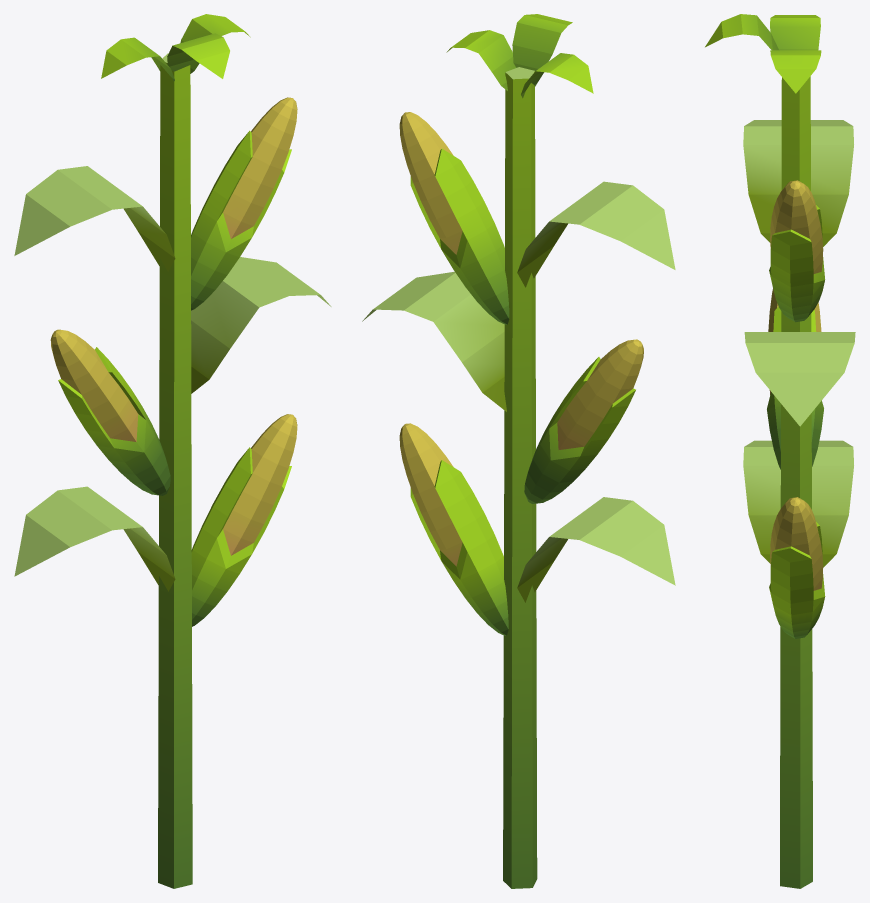
Rendered from farmpack2023cornstalk.fbx.
The picture shows the model from 3 angles, left to right: view 1: azimuth 30°, elevation 25°; view 2: azimuth 150°, elevation 25°; view 3: azimuth 270°, elevation 25°; orthographic projection.
Parts seen in each view (by area): view 1: Cylinder.002; view 2: Cylinder.002; view 3: Cylinder.002.
Boxes of the visible parts, left/top/right/bottom form: Cylinder.002: left=14, top=14, right=331, bottom=888; Cylinder.002: left=362, top=14, right=675, bottom=888; Cylinder.002: left=705, top=14, right=855, bottom=888.
Size of the model in its own units: 0.5536 by 1.35 by 3.47.
